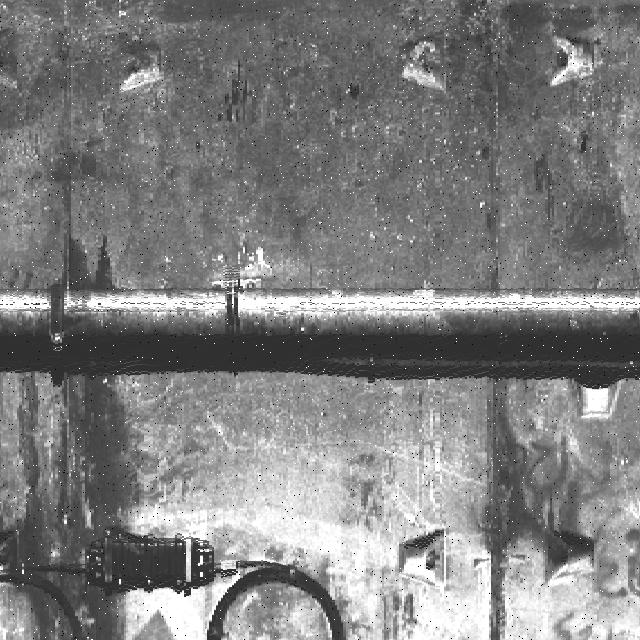leakage: (0, 378, 151, 631), (451, 373, 554, 639), (29, 225, 133, 298)
